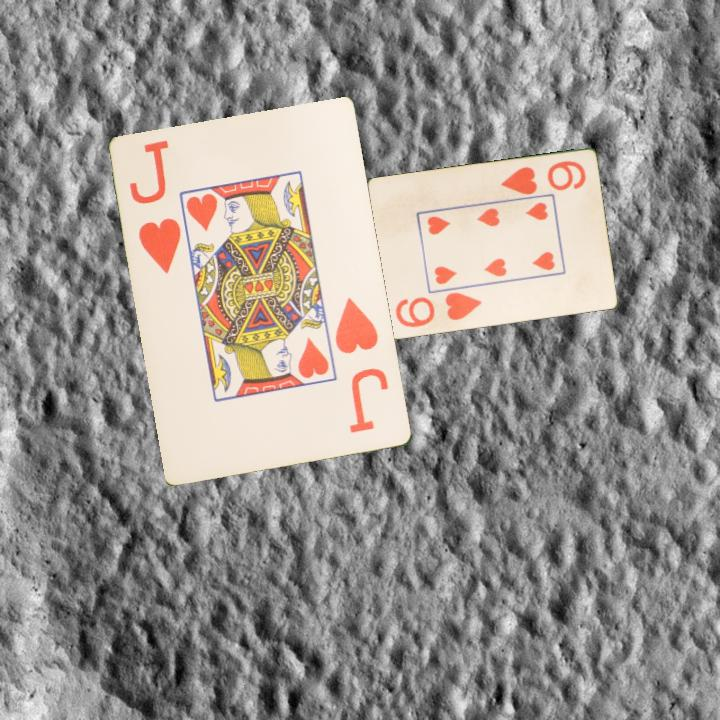6h: (392, 289, 485, 331), (497, 157, 588, 198)
Jh: (332, 294, 392, 437), (135, 215, 185, 277)
